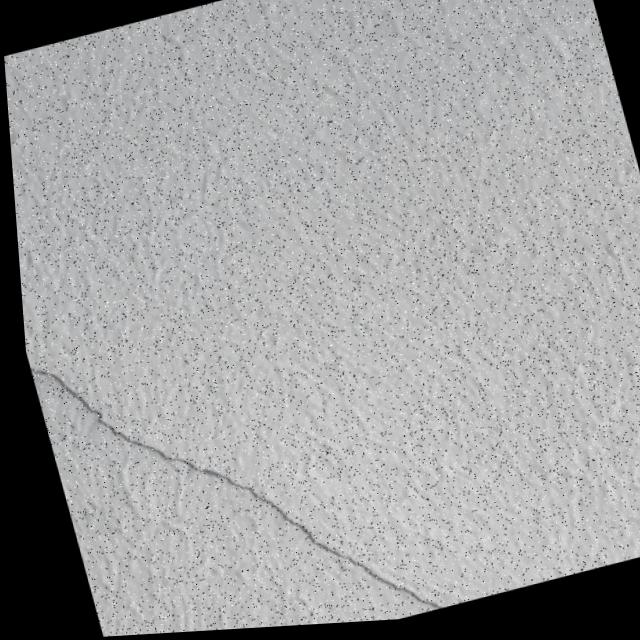Crack: (17, 266, 433, 640)
